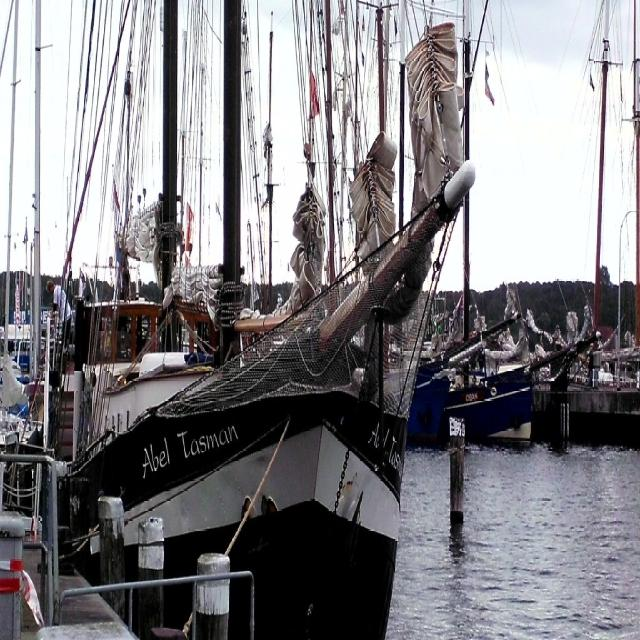Boat: (19, 35, 497, 640), (540, 0, 640, 440), (459, 0, 544, 458), (402, 0, 462, 455)
